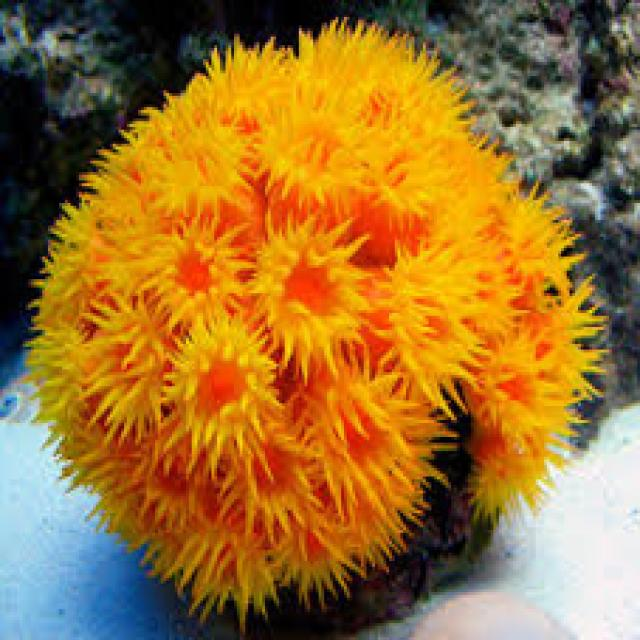Healthy: (29, 24, 602, 621)
